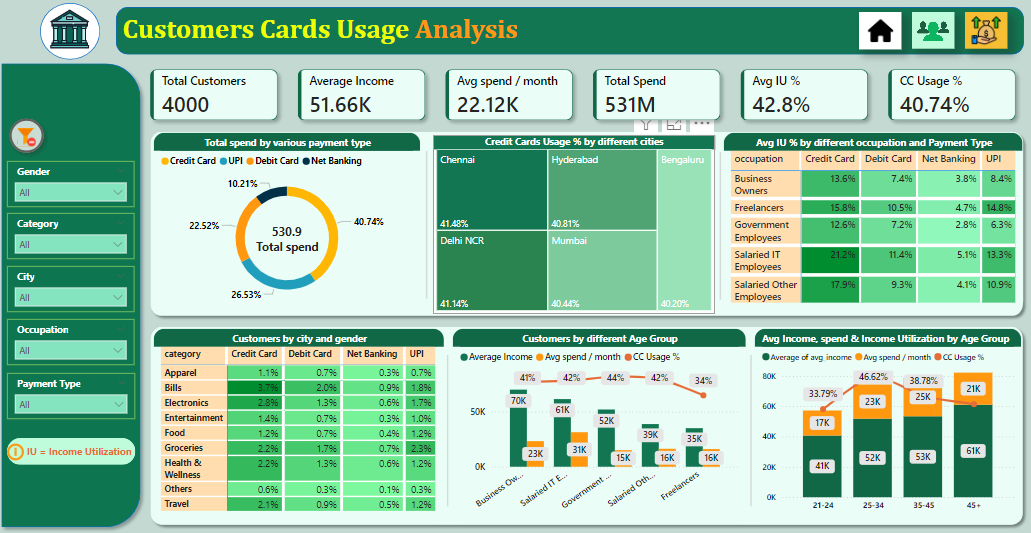

What the dashboard file says about the page in this screenshot:
{"tool":"powerbi","page":{"name":"Customer - 1","canvas":[1360,725],"ordinal":1},"visuals":[{"type":"shape","box":[0.2,77.3,213,645],"z":0},{"type":"shape","box":[66.5,5.8,83,77],"z":1000,"group":"g1"},{"type":"shape","box":[212.1,428.2,1144,291],"z":1000},{"type":"shape","box":[210.7,179.4,1143,253],"z":2000},{"type":"shape","box":[169.8,13.2,1176.6,67.3],"z":3000},{"type":"card","title":"Avg Income Utilisation %","fields":{"Values":["Key Measures.Avg income utilisation %"]},"box":[1178,90.2,168.3,89.3],"z":4000},{"type":"lineClusteredColumnComboChart","title":"Customers by City and Gender","fields":{"Y":["CountNonNull(dim_customers.customer_id)"],"Category":["dim_customers.city"],"Series":["dim_customers.gender"]},"box":[222.4,437.5,383.4,269],"z":5000},{"type":"card","fields":{"Values":["Key Measures.avg_income"]},"box":[793.1,90.2,158,89.3],"z":6000},{"type":"image","box":[63,1.5,89,76],"z":7000,"group":"g1"},{"type":"card","fields":{"Values":["Key Measures.avg_spend"]},"box":[989.2,90.2,158,87.8],"z":7000},{"type":"slicer","fields":{"Values":["dim_customers.occupation"]},"box":[15.4,397.6,177,64.4],"z":8000},{"type":"slicer","fields":{"Values":["dim_customers.city"]},"box":[16.9,325.9,177,64.4],"z":9000},{"type":"slicer","fields":{"Values":["dim_customers.gender"]},"box":[16.9,181,177,64.4],"z":10000},{"type":"slicer","fields":{"Values":["dim_customers.marital status"]},"box":[16.9,470.8,177,64.4],"z":11000},{"type":"slicer","fields":{"Values":["dim_customers.age_group"]},"box":[16.9,254.2,177,64.4],"z":12000},{"type":"clusteredBarChart","title":"Customers by different Age Group","fields":{"Category":["dim_customers.age_group"],"Y":["CountNonNull(dim_customers.customer_id)"]},"box":[614.6,437,361.5,269.3],"z":13000},{"type":"group","id":"g1","title":"Group 1","box":[63,1.5,89,81.3],"z":14000},{"type":"actionButton","box":[19.9,112.2,65.2,65.2],"z":15000},{"type":"textbox","box":[169.4,17.6,598.5,58.5],"z":17000},{"type":"image","box":[1205.4,20.5,60,52.7],"z":18000},{"type":"image","box":[1278.6,19,55.6,55.6],"z":19000},{"type":"image","box":[1130.8,20.5,60,52.7],"z":20000},{"type":"lineStackedColumnComboChart","title":"Avg Income, Spend & Income utilization by Age Group","fields":{"Y2":["Key Measures.Avg income utilisation %"],"Y":["Key Measures.avg_income","Key Measures.avg_spend"],"Category":["dim_customers.age_group"]},"box":[981.9,437,364.4,269.3],"z":21000},{"type":"card","fields":{"Values":["CountNonNull(dim_customers.customer_id)"]},"box":[222.4,90.2,158,89.3],"z":22000},{"type":"donutChart","title":"Customers by different Age Group","fields":{"Category":["dim_customers.gender"],"Y":["CountNonNull(dim_customers.gender)"]},"box":[1012.6,185.7,331,234],"z":23000},{"type":"donutChart","title":"Customers by different Age Group","fields":{"Category":["dim_customers.marital status"],"Y":["CountNonNull(dim_customers.marital status)"]},"box":[671.6,186.4,332,234],"z":24000},{"type":"lineClusteredColumnComboChart","title":"Customers by Occupation and Gender","fields":{"Category":["dim_customers.occupation"],"Y":["CountNonNull(dim_customers.customer_id)"],"Series":["dim_customers.gender"]},"box":[220.9,187.8,440.5,234],"z":25000},{"type":"shape","box":[659.9,215.3,12,190],"z":26000},{"type":"shape","box":[1002.4,215.3,12,190.2],"z":27000},{"type":"shape","box":[605.8,477,12,210],"z":28000},{"type":"shape","box":[973.1,476.5,11.7,210.7],"z":29000},{"type":"card","fields":{"Values":["CountNonNull(dim_customers.customer_id)"]},"box":[409.7,90.2,158,89.3],"z":30000},{"type":"card","fields":{"Values":["CountNonNull(dim_customers.customer_id)"]},"box":[598.5,90.2,158,89.3],"z":31000}]}

Visuals, with their boxes on the page's 1360x725 design canvas (x1, y1, x2, y2). These are canvas units, not pixel positions in the 1031x533 screenshot, which may show the page scaled, cropped or inside an application window:
shape: select_region(0, 77, 213, 722)
shape: select_region(66, 6, 150, 83)
shape: select_region(212, 428, 1356, 719)
shape: select_region(211, 179, 1354, 432)
shape: select_region(170, 13, 1346, 80)
"Avg Income Utilisation %" card: select_region(1178, 90, 1346, 180)
"Customers by City and Gender" lineClusteredColumnComboChart: select_region(222, 438, 606, 706)
card - Key Measures.avg_income: select_region(793, 90, 951, 180)
image: select_region(63, 2, 152, 78)
card - Key Measures.avg_spend: select_region(989, 90, 1147, 178)
slicer - dim_customers.occupation: select_region(15, 398, 192, 462)
slicer - dim_customers.city: select_region(17, 326, 194, 390)
slicer - dim_customers.gender: select_region(17, 181, 194, 245)
slicer - dim_customers.marital status: select_region(17, 471, 194, 535)
slicer - dim_customers.age_group: select_region(17, 254, 194, 319)
"Customers by different Age Group" clusteredBarChart: select_region(615, 437, 976, 706)
"Group 1" group: select_region(63, 2, 152, 83)
actionButton: select_region(20, 112, 85, 177)
textbox: select_region(169, 18, 768, 76)
image: select_region(1205, 20, 1265, 73)
image: select_region(1279, 19, 1334, 75)
image: select_region(1131, 20, 1191, 73)
"Avg Income, Spend & Income utilization by Age Group" lineStackedColumnComboChart: select_region(982, 437, 1346, 706)
card - CountNonNull(dim_customers.customer_id): select_region(222, 90, 380, 180)
"Customers by different Age Group" donutChart: select_region(1013, 186, 1344, 420)
"Customers by different Age Group" donutChart: select_region(672, 186, 1004, 420)
"Customers by Occupation and Gender" lineClusteredColumnComboChart: select_region(221, 188, 661, 422)
shape: select_region(660, 215, 672, 405)
shape: select_region(1002, 215, 1014, 406)
shape: select_region(606, 477, 618, 687)
shape: select_region(973, 476, 985, 687)
card - CountNonNull(dim_customers.customer_id): select_region(410, 90, 568, 180)
card - CountNonNull(dim_customers.customer_id): select_region(598, 90, 756, 180)
